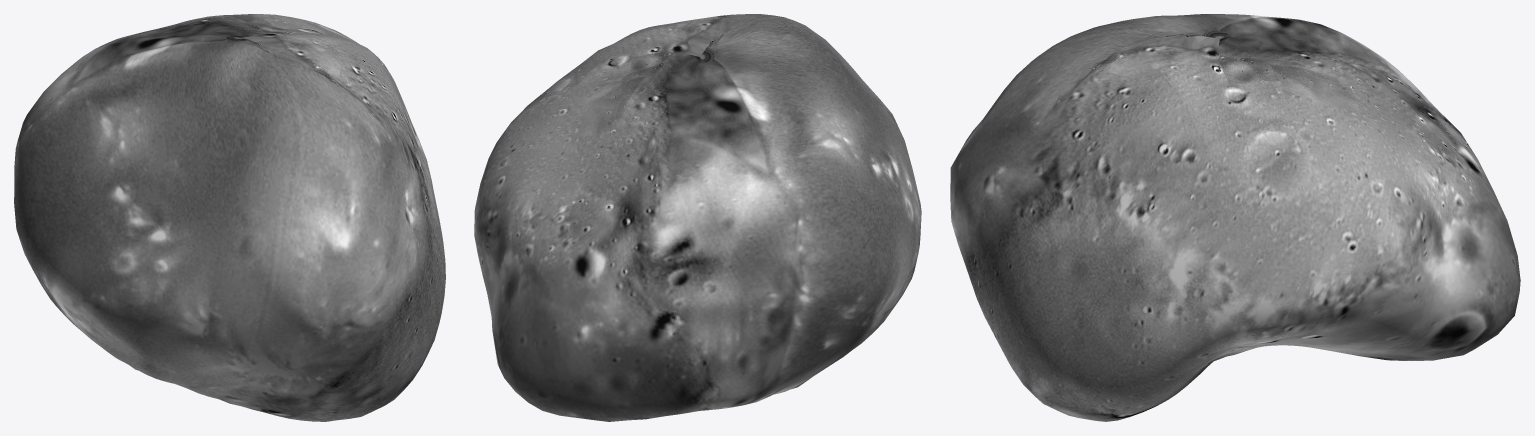
The model's file is deimos.glb.
The picture shows the model from 3 angles, left to right: view 1: azimuth 30°, elevation 25°; view 2: azimuth 150°, elevation 25°; view 3: azimuth 270°, elevation 25°; orthographic projection. The views are drawn at different scales.
Visible parts, largest first — view 1: m2deimos_21_MLfix; view 2: m2deimos_21_MLfix; view 3: m2deimos_21_MLfix.
Boxes of the visible parts, bbox=[...] form: m2deimos_21_MLfix: bbox=[14, 14, 445, 421]; m2deimos_21_MLfix: bbox=[474, 14, 921, 421]; m2deimos_21_MLfix: bbox=[950, 14, 1520, 421].
Size of the model in its own units: 12.65 by 11.06 by 16.01.
Materials: 1 (1 with a texture image).
